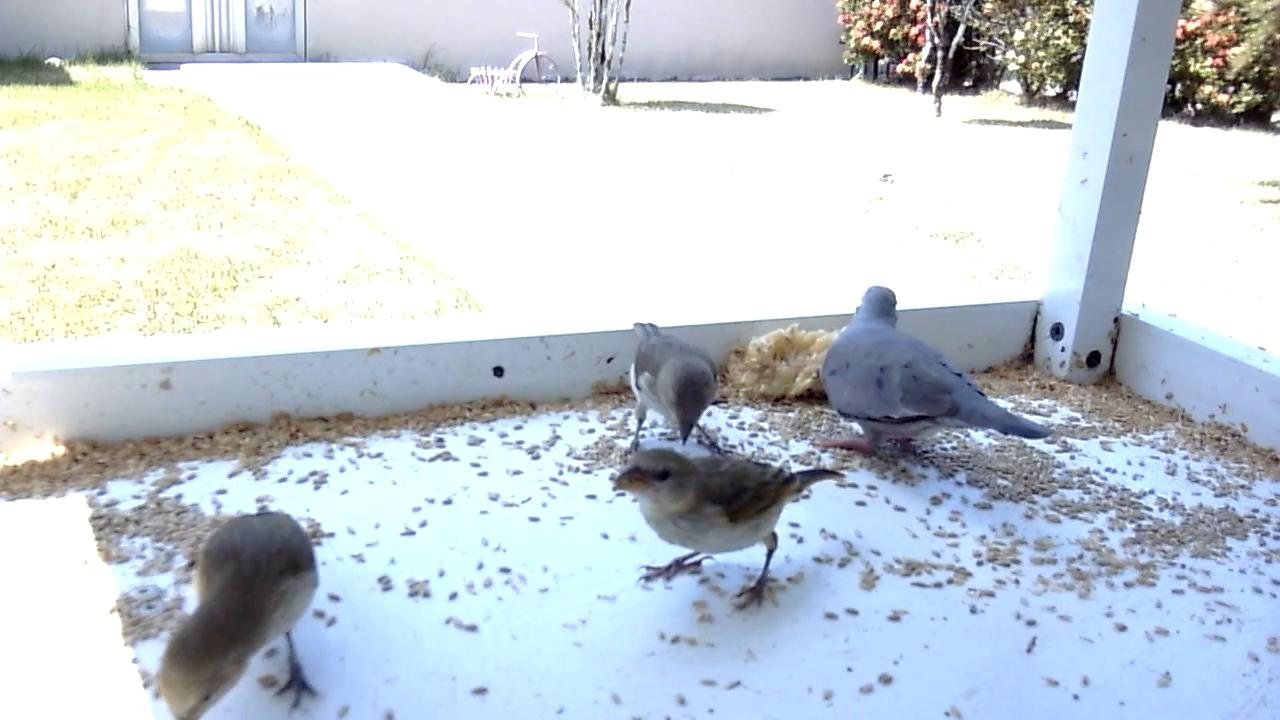canario_do_amazonas: (608, 445, 848, 618), (155, 503, 335, 720), (618, 318, 740, 465)
rolinha: (809, 282, 1060, 459)
